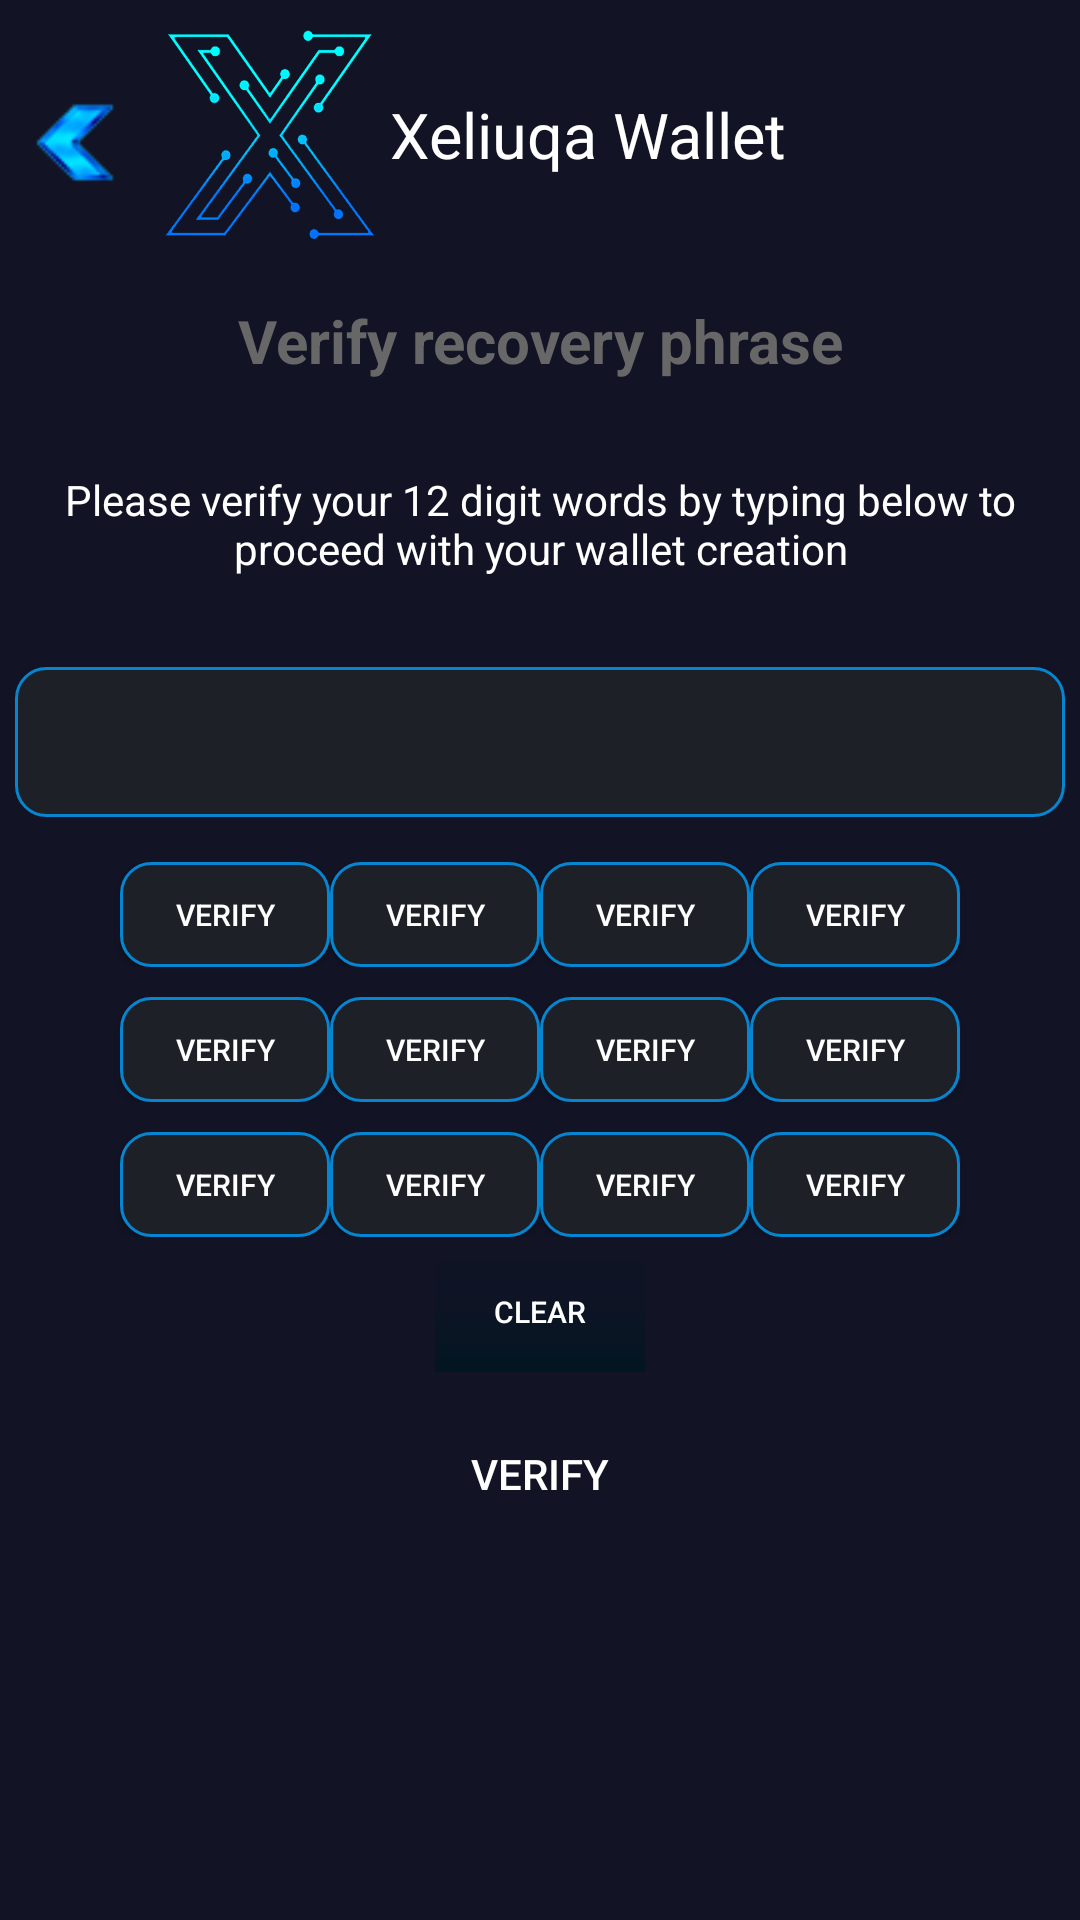

Where to tap for icons on this 1080 x 1920 app screen, as (x=x, y=y):
arrow left: (x=75, y=142)
